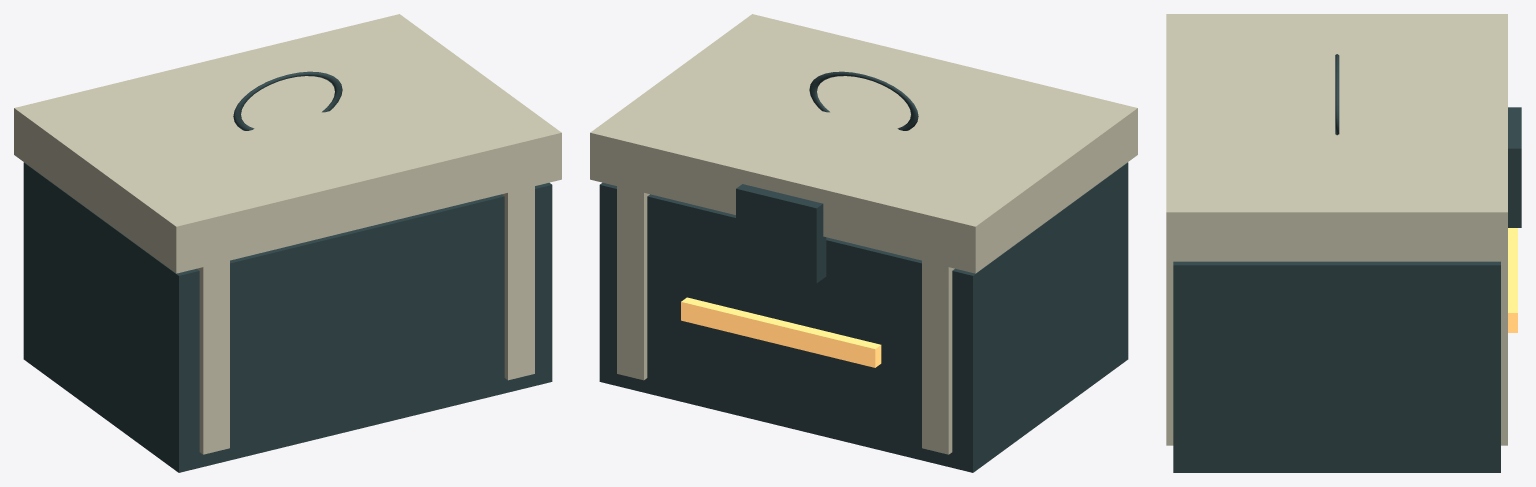
The model's file is field-cache.glb.
3 renders of one model, left to right at view 1: azimuth 30°, elevation 25°; view 2: azimuth 150°, elevation 25°; view 3: azimuth 270°, elevation 25°, orthographic. The views are drawn at different scales.
Parts seen in each view (by area): view 1: Vesper / field-cache; view 2: Vesper / field-cache, indicator; view 3: Vesper / field-cache, indicator.
Boxes of the visible parts, x1=… form: Vesper / field-cache: x1=14, y1=14, x2=561, y2=472; Vesper / field-cache: x1=590, y1=14, x2=1137, y2=472; indicator: x1=681, y1=297, x2=881, y2=367; Vesper / field-cache: x1=1166, y1=14, x2=1521, y2=472; indicator: x1=1508, y1=228, x2=1517, y2=332.
Size of the model in its own units: 1.29 by 0.9464 by 0.9775.
